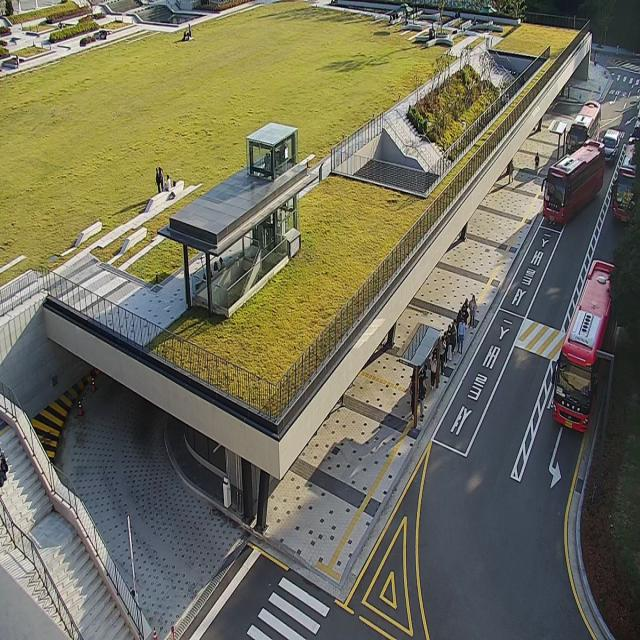queue: (413, 292, 476, 438)
